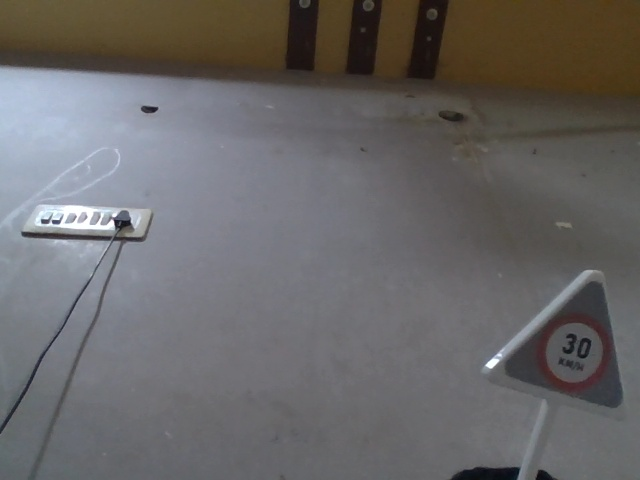speedlimit: (478, 261, 624, 407)
